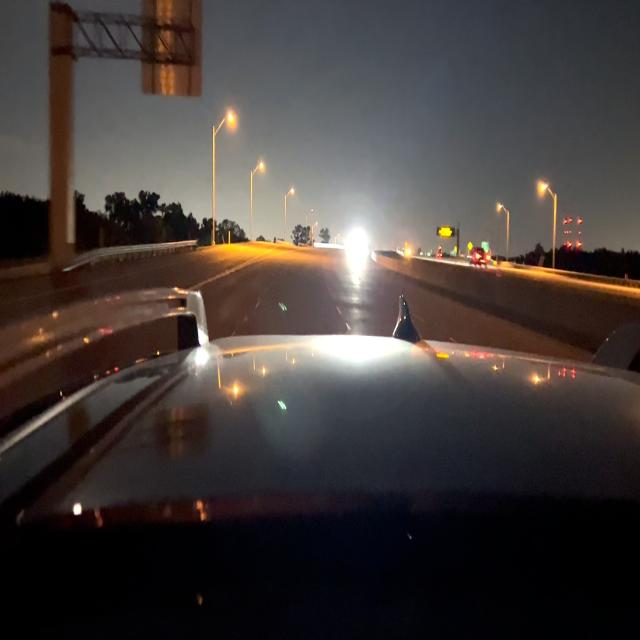back-of-sign: (144, 1, 203, 94)
